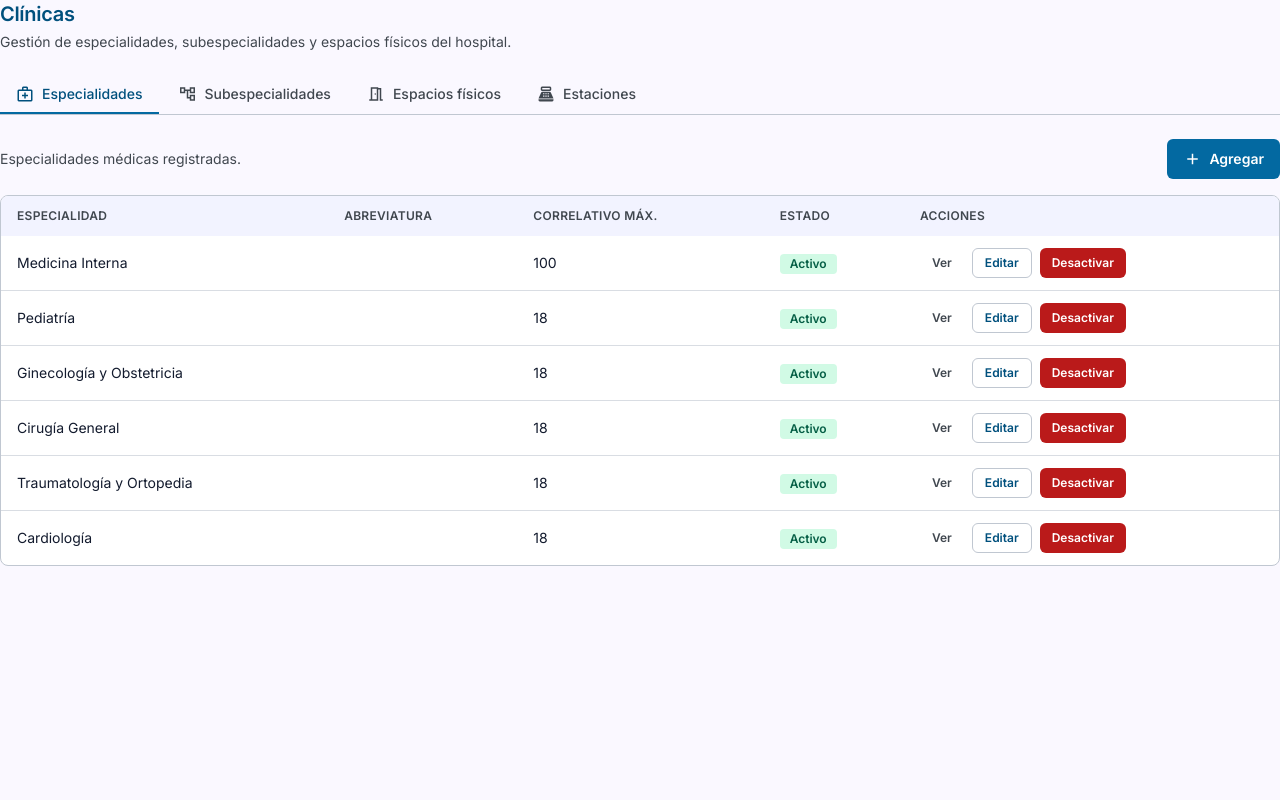
Test: ClinicasPage › valida que el nombre sea obligatorio
The width and height of the screenshot is (1280, 800).
Click the button "Agregar" at (1224, 159), box [1167,139,1279,179]
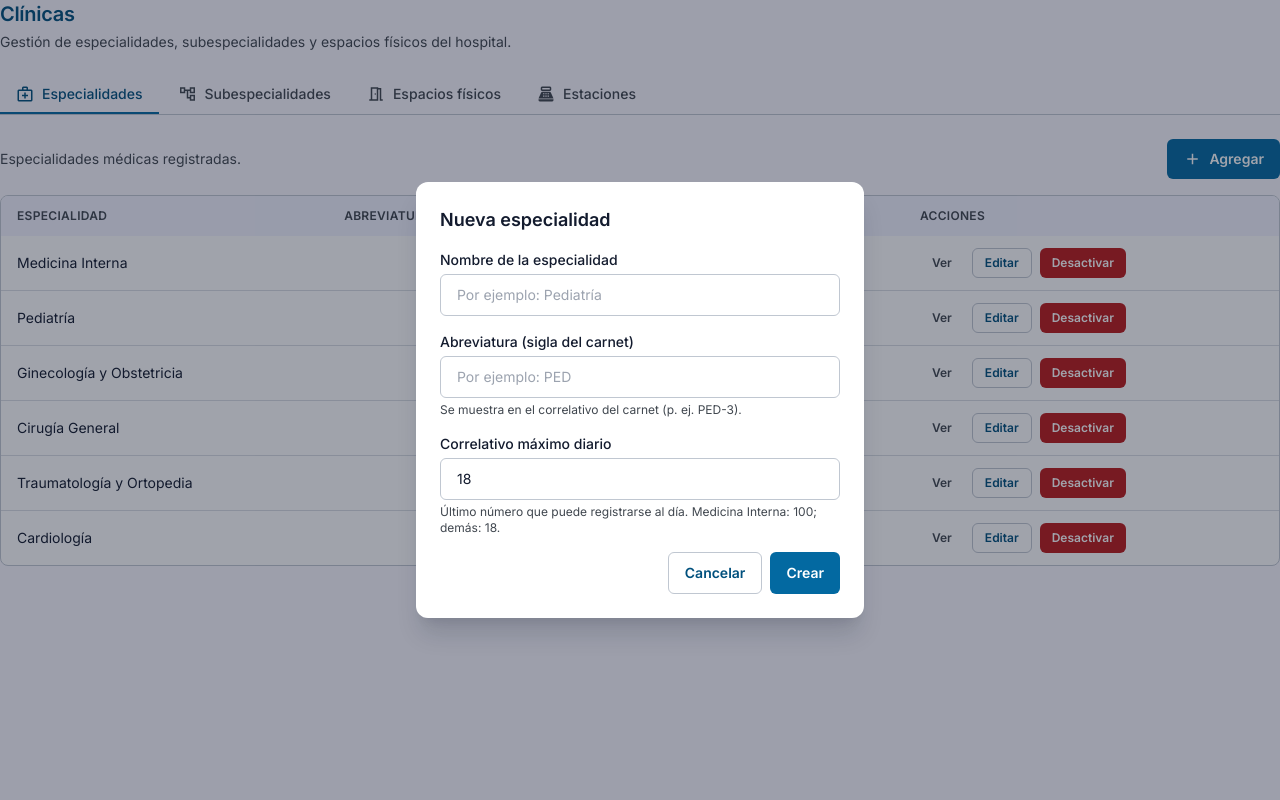
Click the button "Crear" at (805, 573), box [770,552,840,594]
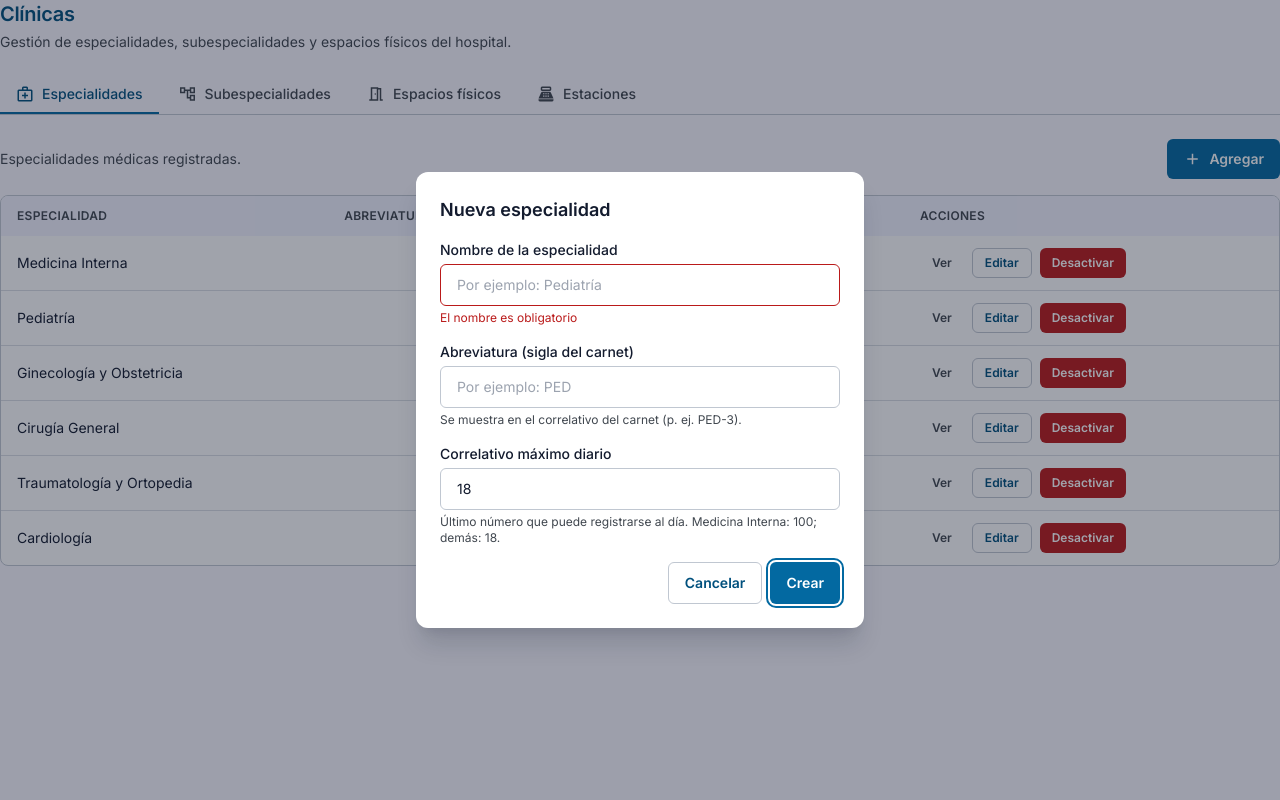
Result: the heading "Nueva especialidad" is shown at [440,199,610,220]
Result: the text "El nombre es obligatorio" is shown at [440,310,577,325]
